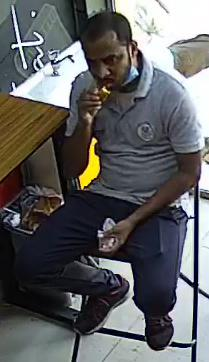no_apron: (76, 43, 174, 209)
